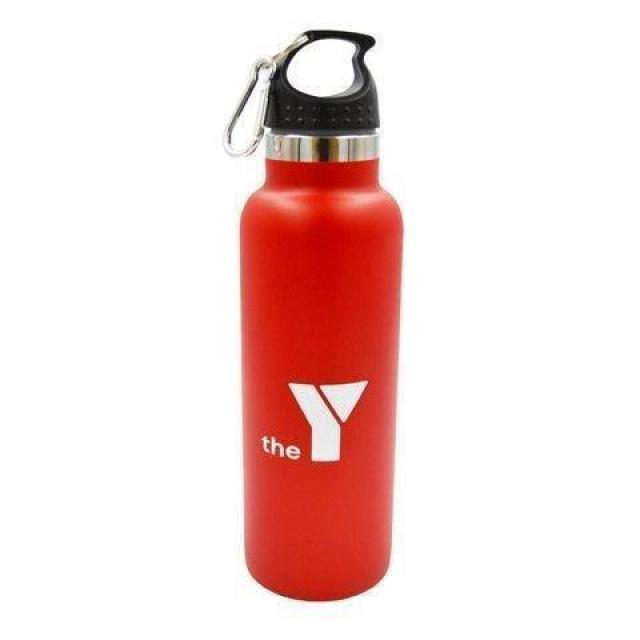gym bottle: (235, 27, 408, 604)
